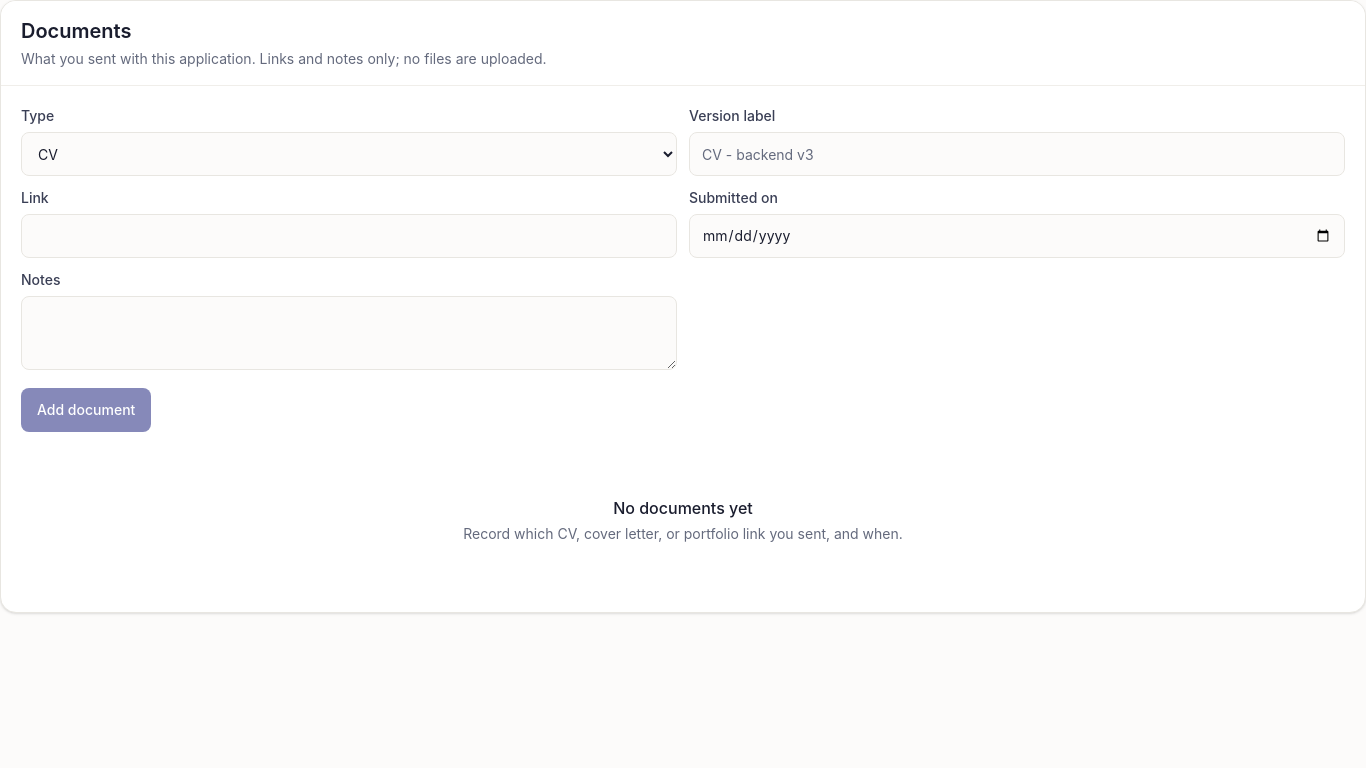
Test case: JobDetailDocumentsPanel › saves a document with only the required fields, sending blank optionals as null
Check: the button "Add document" is disabled, box [21,388,151,432]
Select "Cover letter" in the dropdown labelled "Type" at [349, 154], box [21,132,677,176]
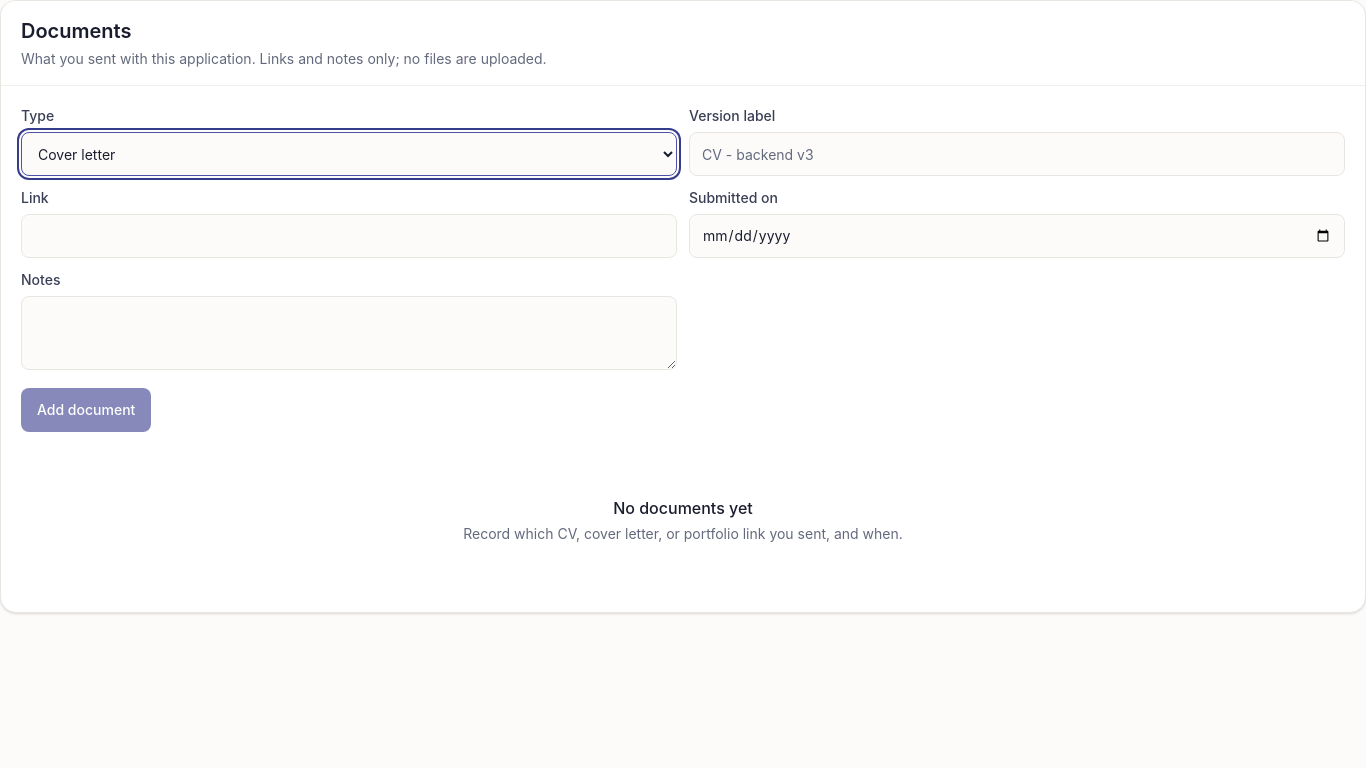
Type "  Cover letter v1 " into the field labelled "Version label" at [1017, 154], box [689,132,1345,176]
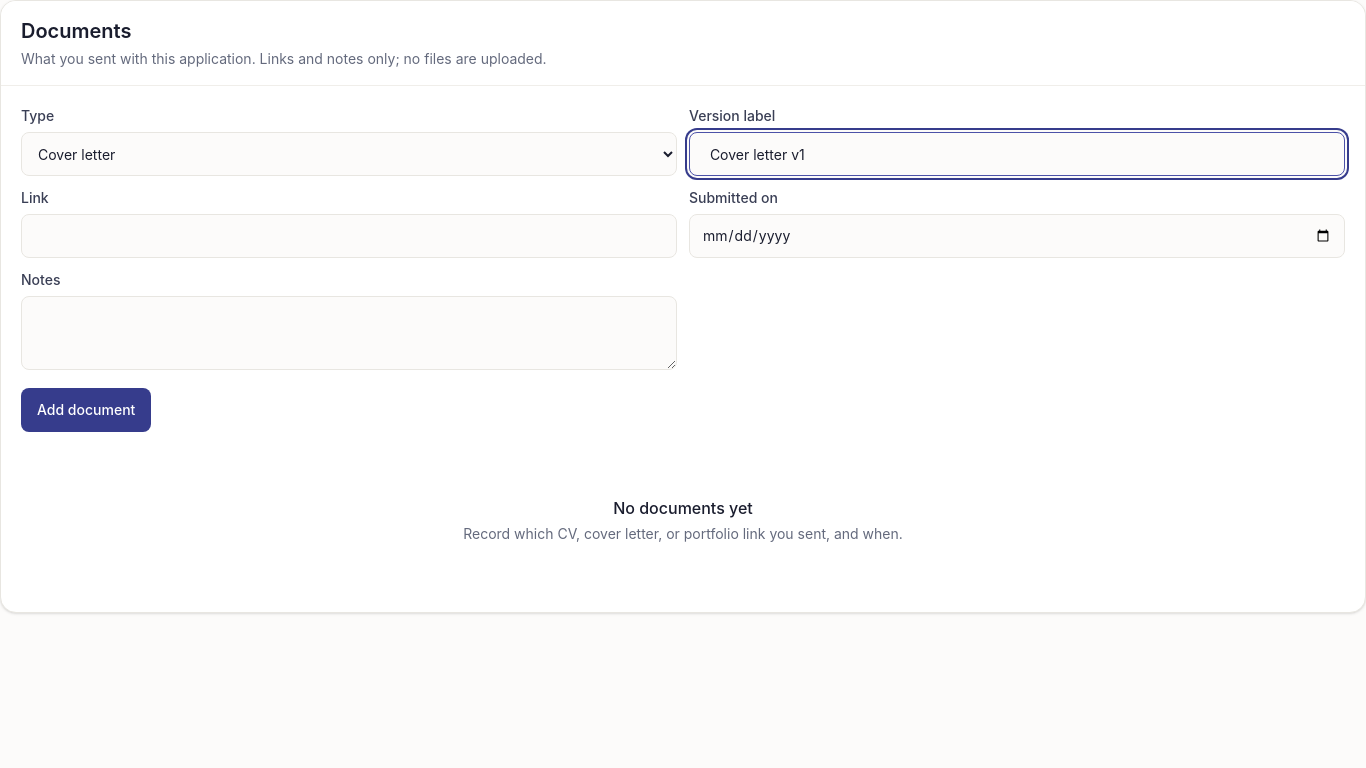
Click the button "Add document" at [86, 410], box [21,388,151,432]
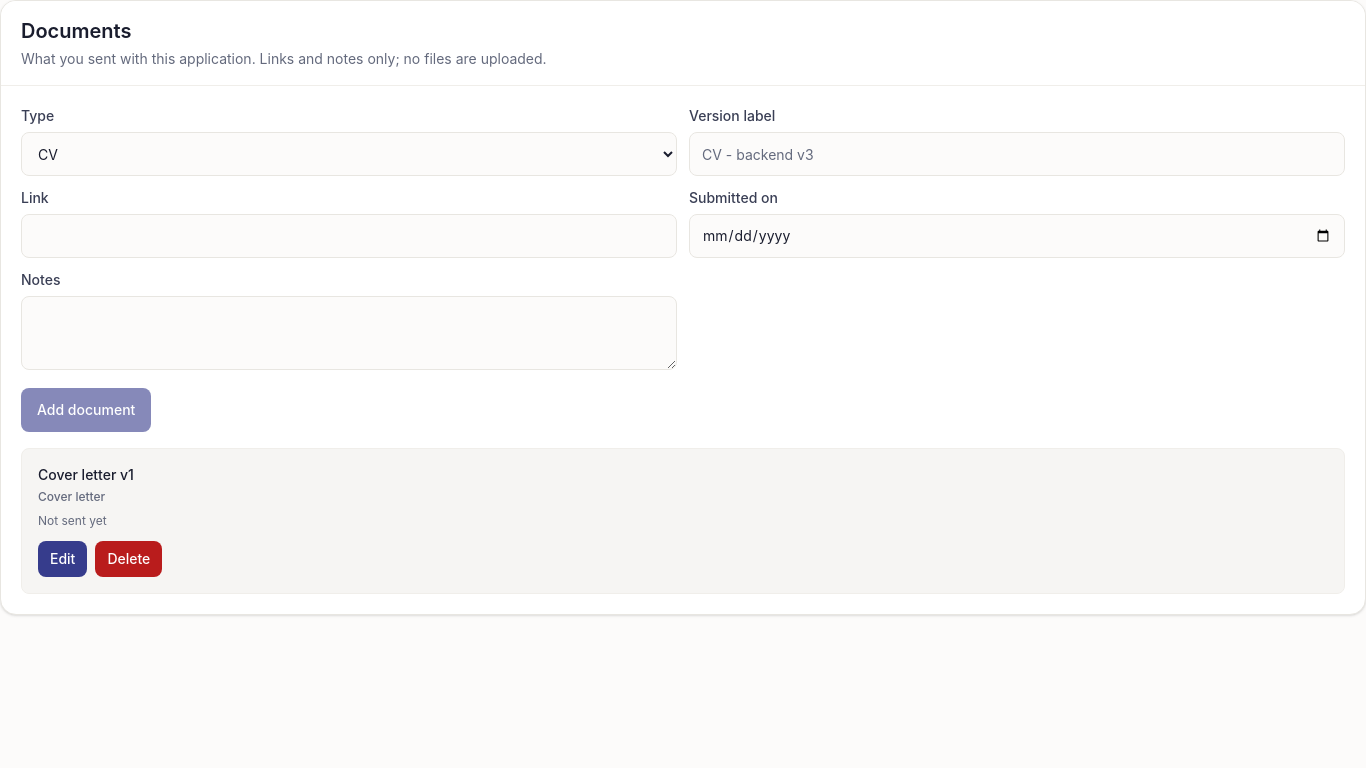
Check: the text "Cover letter v1" is shown, box [38,466,134,483]
Check: the field labelled "Version label" is empty, box [689,132,1345,176]
